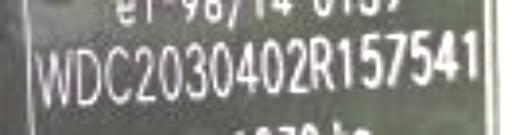letter: (31, 50, 73, 107), (101, 42, 135, 107), (154, 42, 186, 107), (406, 27, 438, 88), (282, 34, 314, 95), (132, 42, 162, 107), (434, 27, 464, 88), (74, 46, 104, 107), (182, 34, 208, 103), (306, 35, 336, 92), (232, 38, 260, 99), (210, 42, 236, 103), (360, 31, 384, 96), (260, 38, 286, 95), (384, 31, 406, 96), (458, 27, 480, 84), (334, 35, 356, 92)
